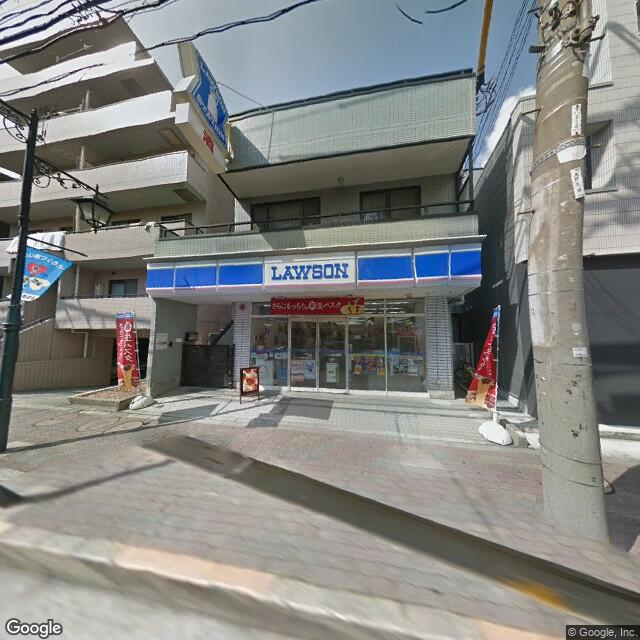lawson: (144, 240, 484, 299), (190, 45, 231, 151)
